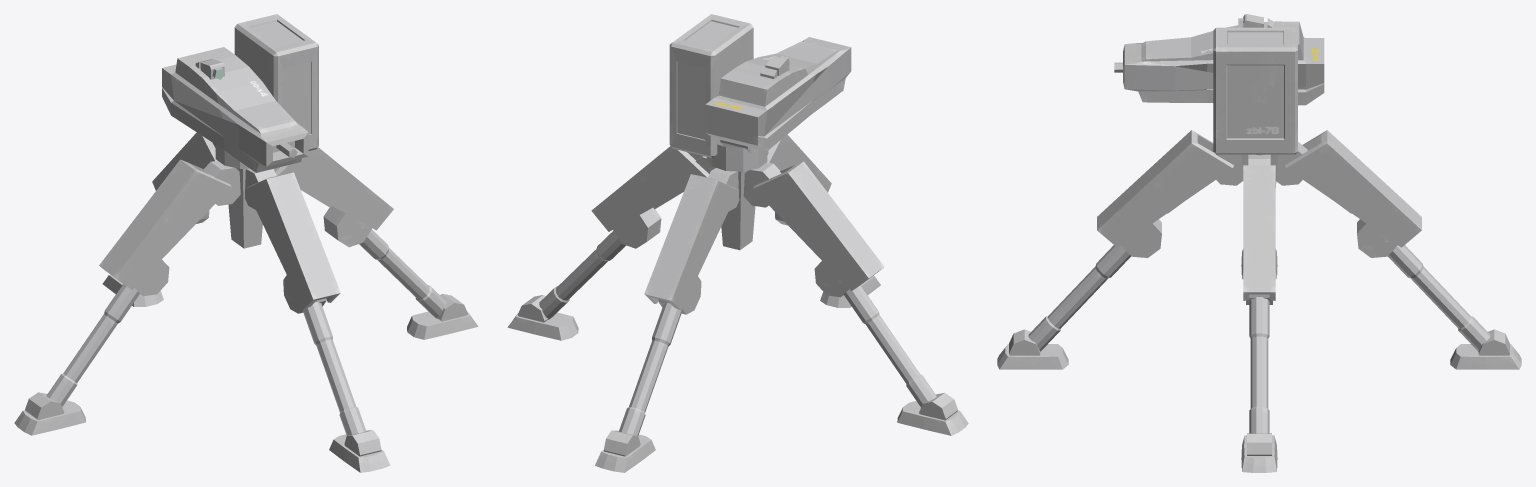
Rendered from sentry_combatIdle.fbx.
3 renders of one model, left to right at view 1: azimuth 30°, elevation 25°; view 2: azimuth 150°, elevation 25°; view 3: azimuth 270°, elevation 25°, orthographic.
Parts seen in each view (by area): view 1: quadpod, barrel, ammoAndpivot1; view 2: quadpod, barrel, ammoAndpivot1; view 3: quadpod, ammoAndpivot1, barrel.
Boxes of the visible parts, x1,y1,x2,y2 form: quadpod: (14, 132, 478, 472); barrel: (162, 47, 308, 172); ammoAndpivot1: (215, 14, 318, 168); quadpod: (507, 134, 968, 472); barrel: (705, 37, 851, 151); ammoAndpivot1: (669, 14, 767, 171); quadpod: (997, 130, 1521, 472); ammoAndpivot1: (1213, 27, 1297, 155); barrel: (1114, 14, 1324, 105).
Size of the model in its own units: 17.11 by 12.23 by 17.11.
3 materials, 3 textured.
